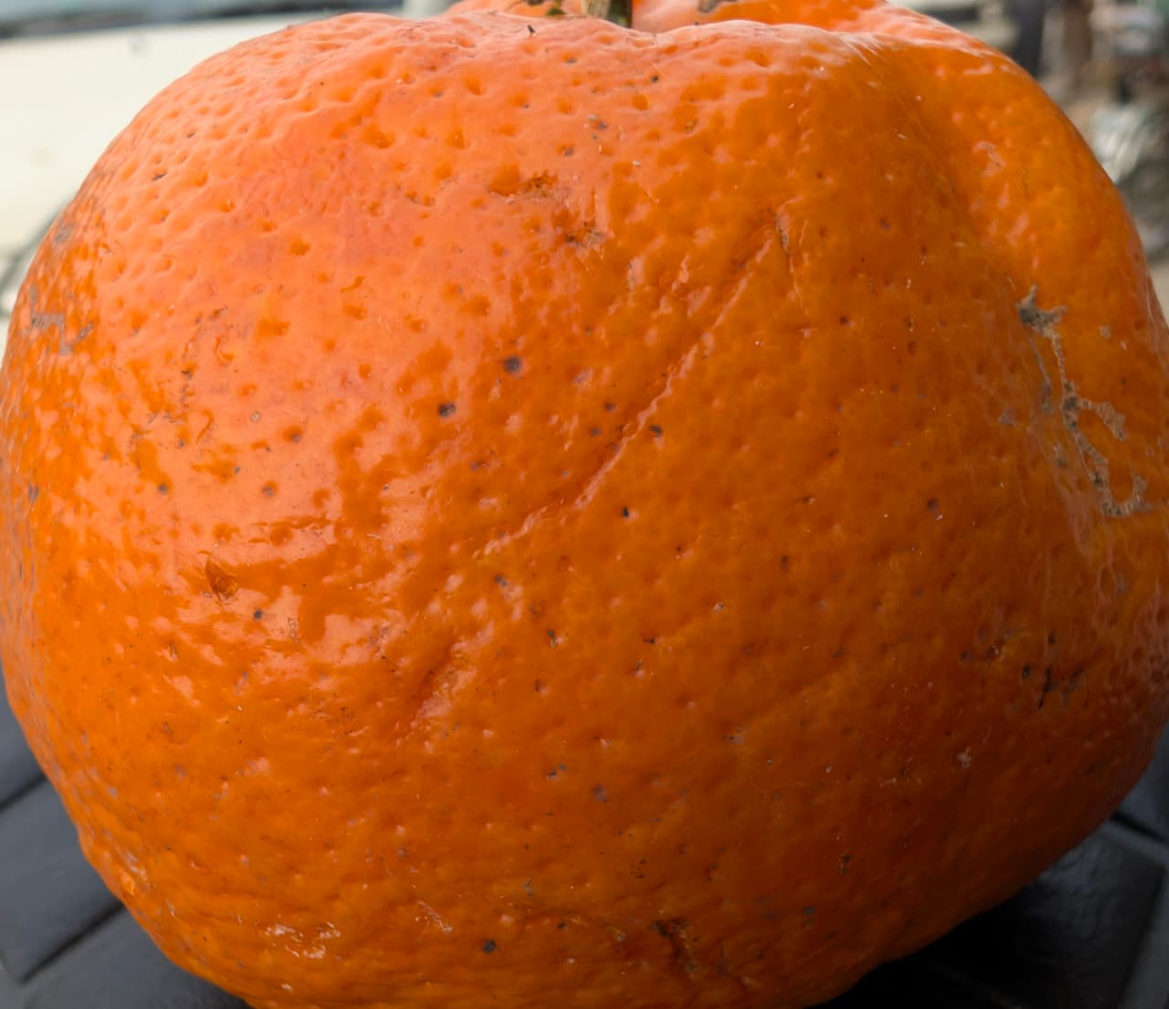orange: (10, 201, 930, 838)
